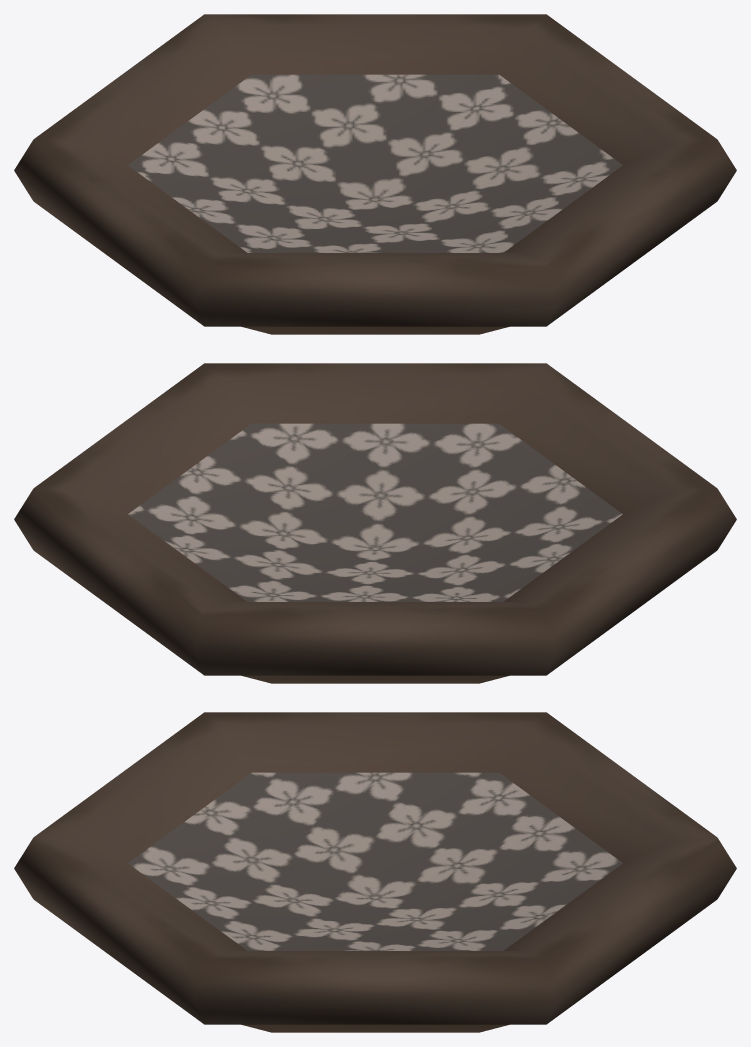
The model's file is Piring.fbx.
The picture shows the model from 3 angles, top to bottom: view 1: azimuth 30°, elevation 25°; view 2: azimuth 150°, elevation 25°; view 3: azimuth 270°, elevation 25°; orthographic projection.
Parts seen in each view (by area): view 1: Piring_LP; view 2: Piring_LP; view 3: Piring_LP.
Part boxes in pixels (bbox=[...]): Piring_LP: bbox=[14, 14, 736, 334]; Piring_LP: bbox=[14, 363, 736, 683]; Piring_LP: bbox=[14, 712, 736, 1032].
Bounding box in the file's own units: 48.33 × 10.17 × 55.8.
1 material, 1 textured.
